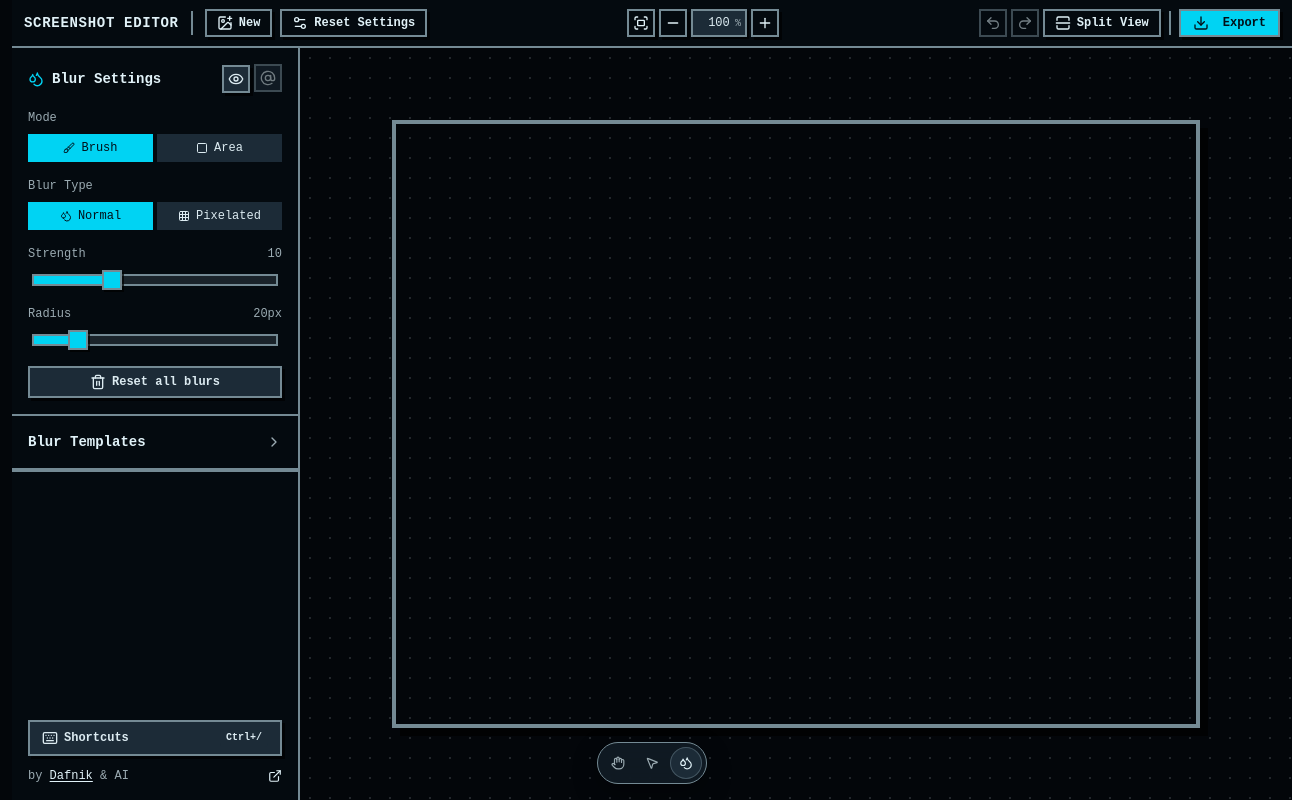
Test case: EditorSidebar shortcut tooltips › shows reset blurs tooltip
This screenshot has width=1292, height=800.
Hover over the button "Reset all blurs" at (155, 382), box [28, 366, 282, 398]
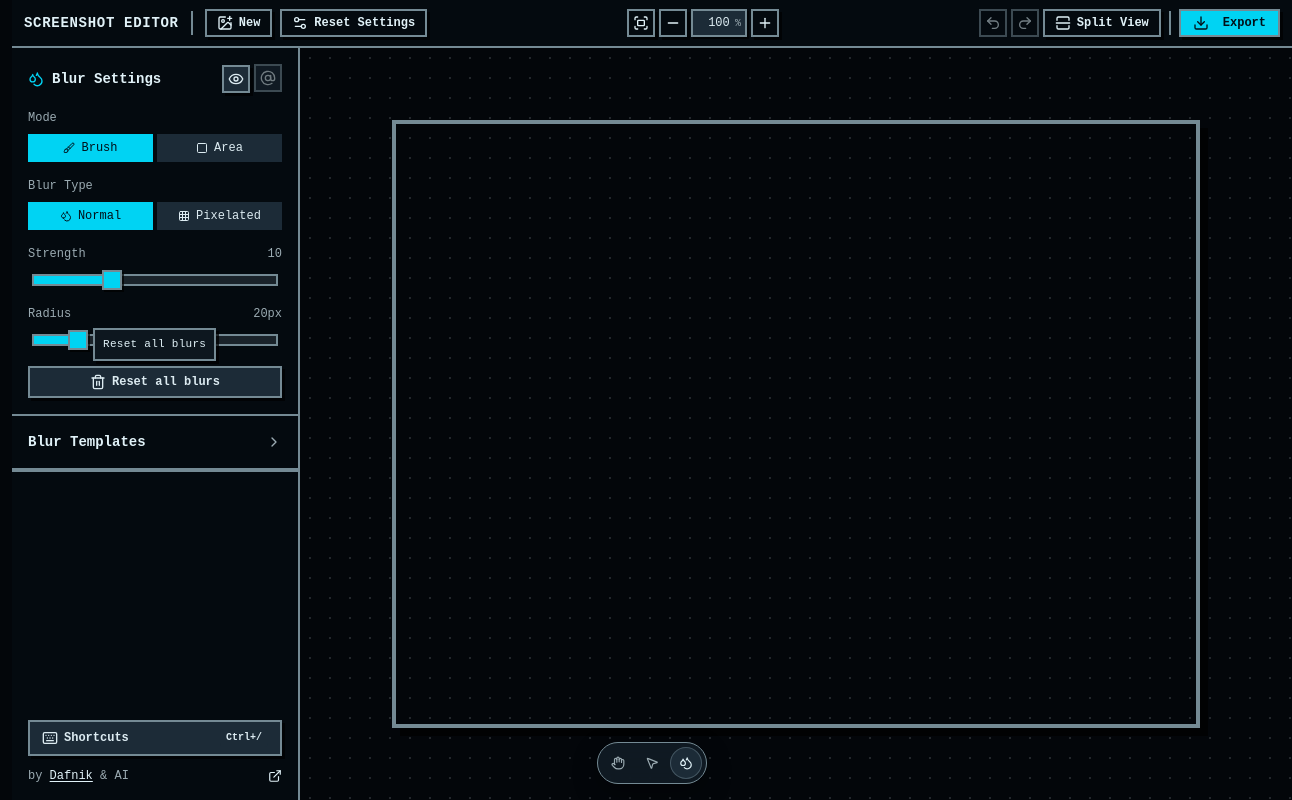
Now the tooltip "Reset all blurs" is shown, box [93, 328, 216, 360]
